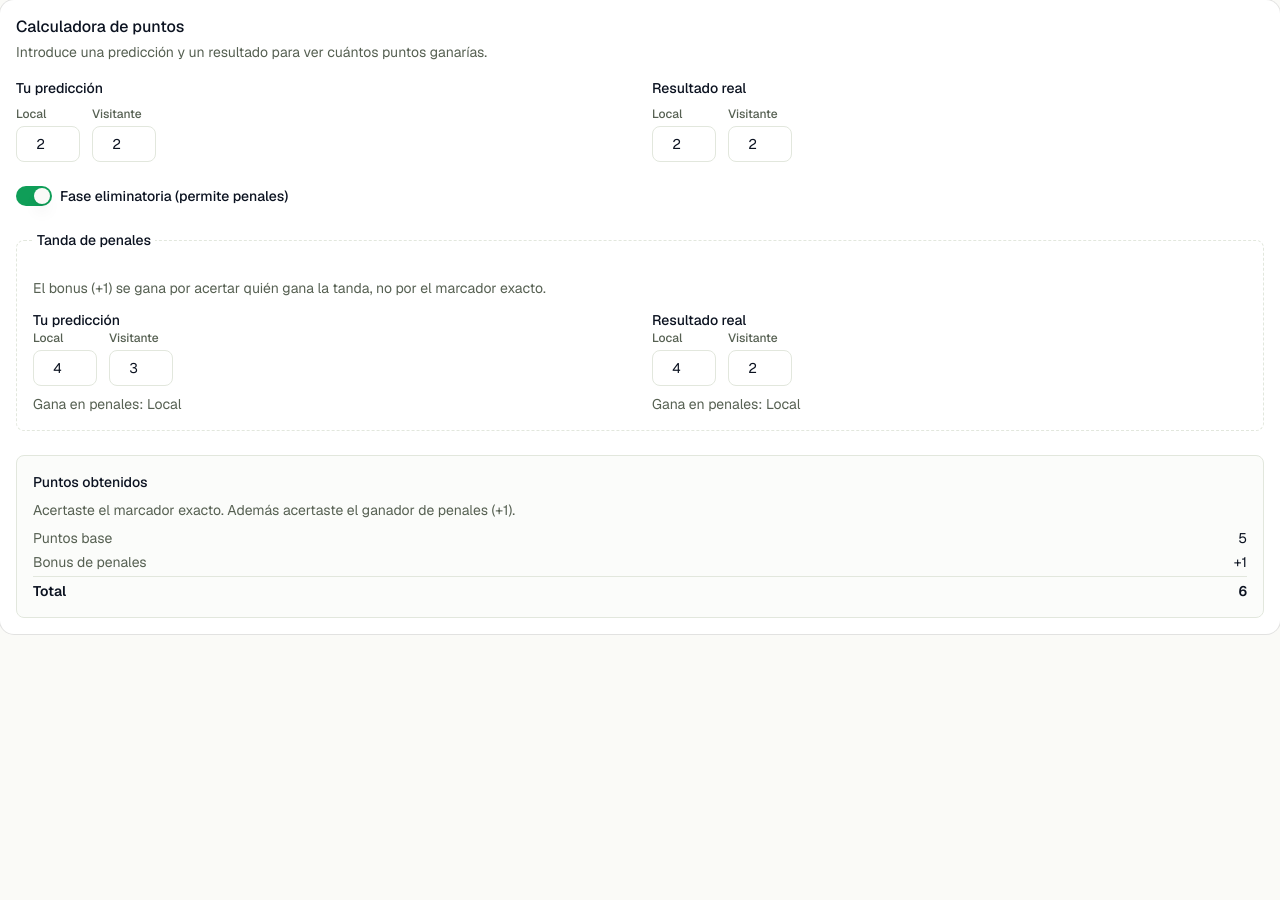
ScoringCalculator penalties › flags an invalid (tied) shootout score per column
Note: Tie the actual shootout 3-3 → its winner cannot be derived.
Replace the text in the number field with test id "calculator-act-pen-home" with "3" at coordinates (684, 368), box [652,350,716,386]
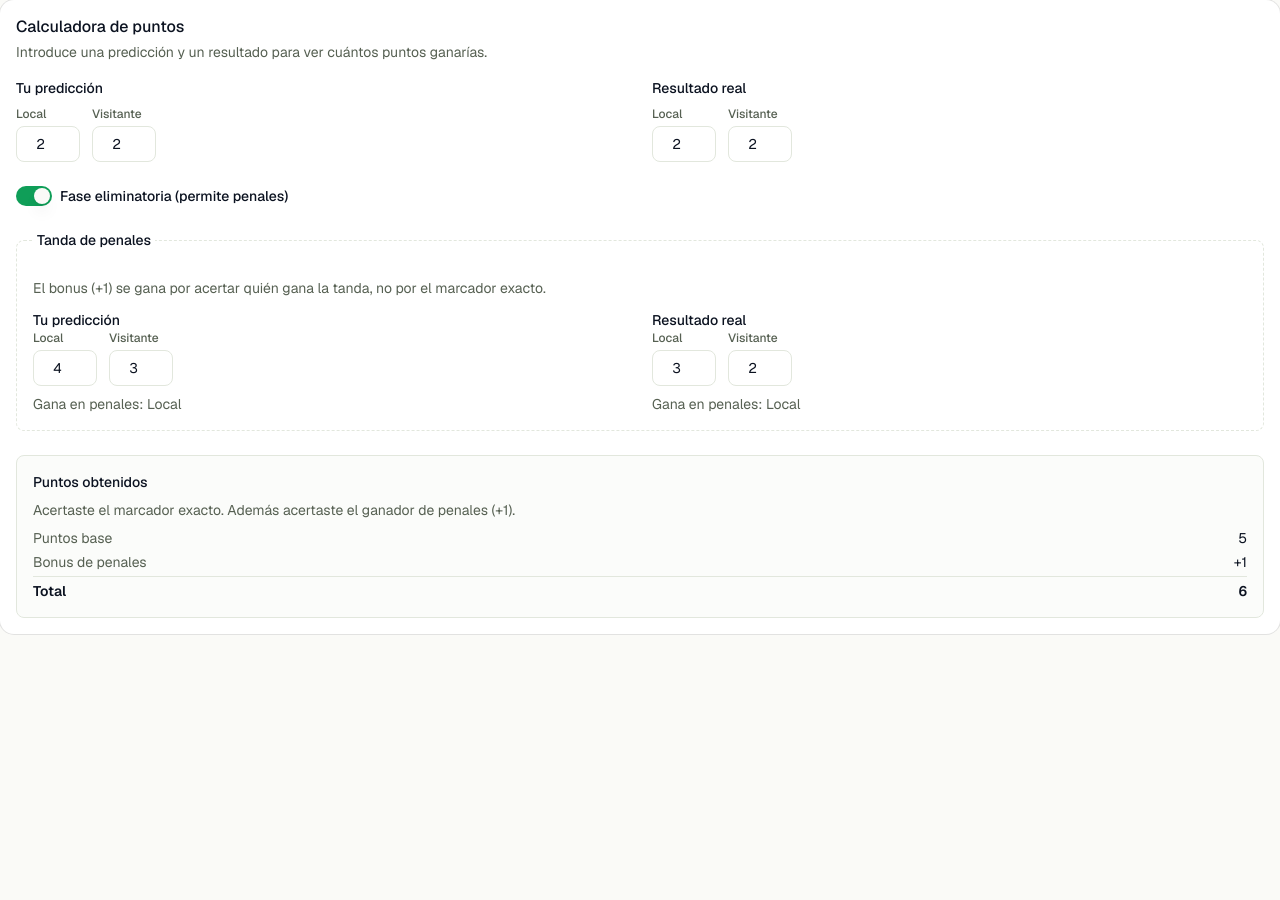
Replace the text in the number field with test id "calculator-act-pen-away" with "3" at coordinates (760, 368), box [728,350,792,386]
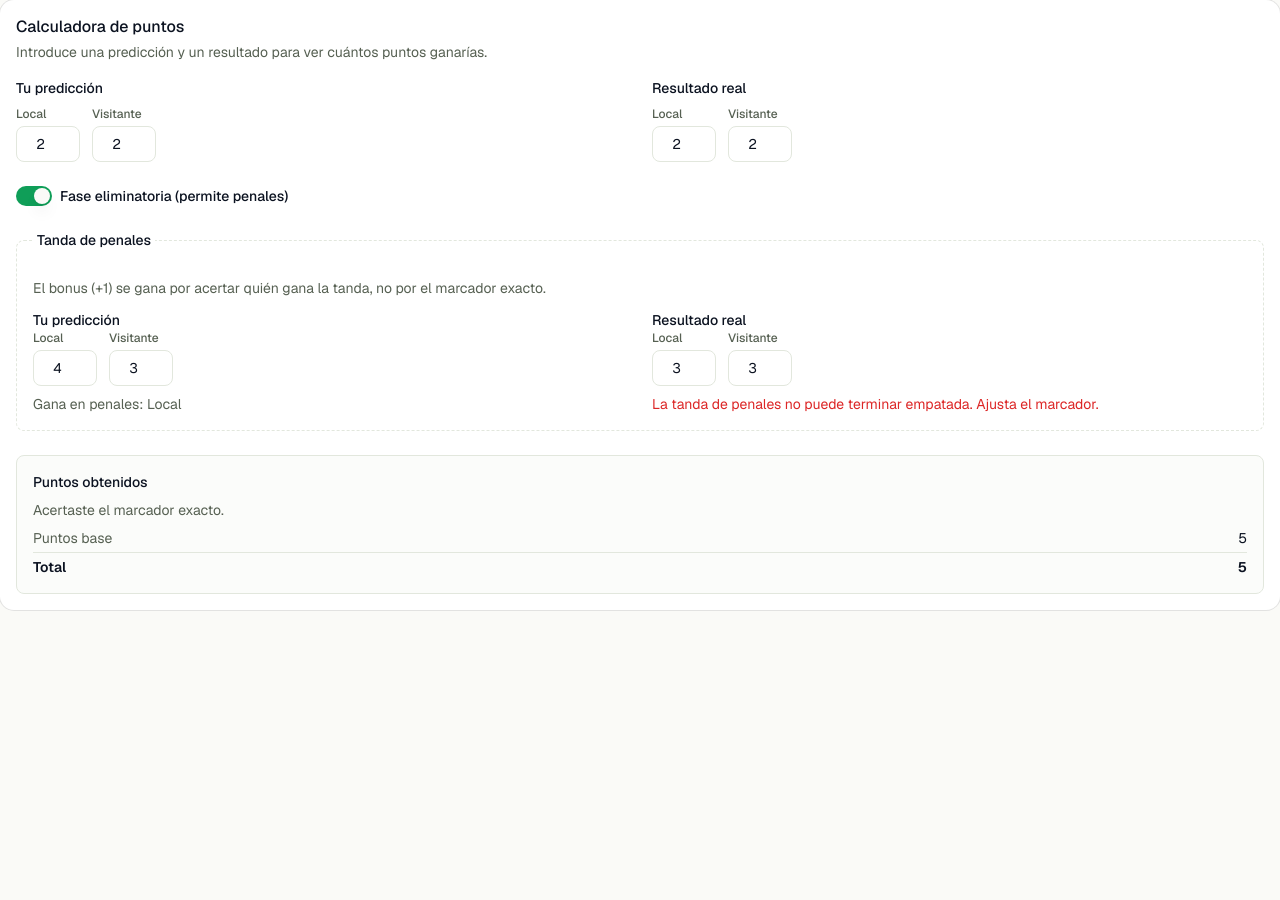
Result: the message "La tanda de penales no puede terminar empatada. Ajusta el marcador." is shown at [652,395,1098,413]
